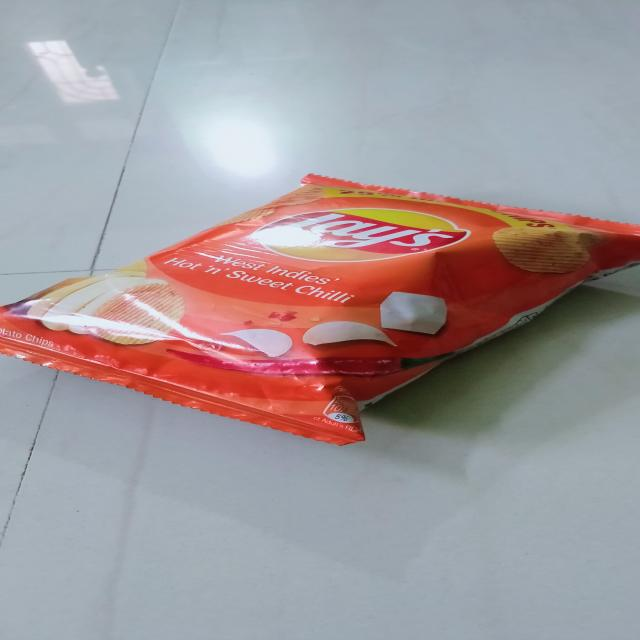lays: (0, 152, 640, 447)
